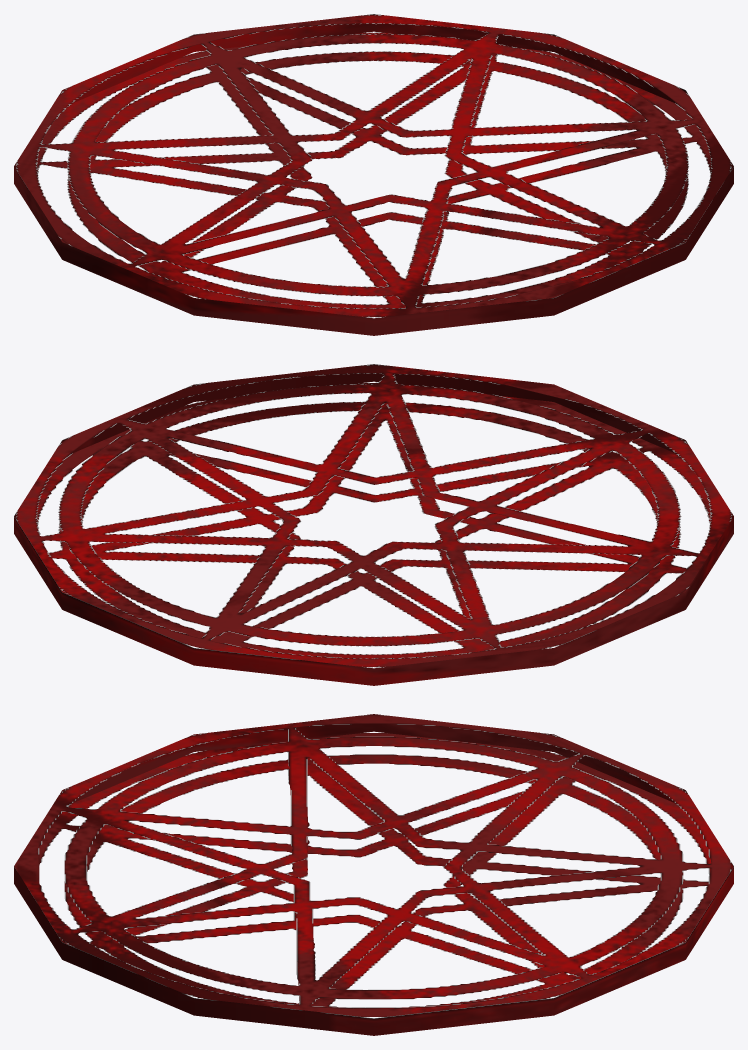
File: asset_pentacle.FBX
The picture shows the model from 3 angles, top to bottom: view 1: azimuth 30°, elevation 25°; view 2: azimuth 150°, elevation 25°; view 3: azimuth 270°, elevation 25°; orthographic projection.
Parts seen in each view (by area): view 1: Cylinder001; view 2: Cylinder001; view 3: Cylinder001.
Boxes of the visible parts, bbox=[...] form: Cylinder001: bbox=[14, 14, 733, 335]; Cylinder001: bbox=[14, 364, 733, 685]; Cylinder001: bbox=[14, 714, 733, 1035].
Size of the model in its own units: 33.87 by 0.915 by 33.87.
